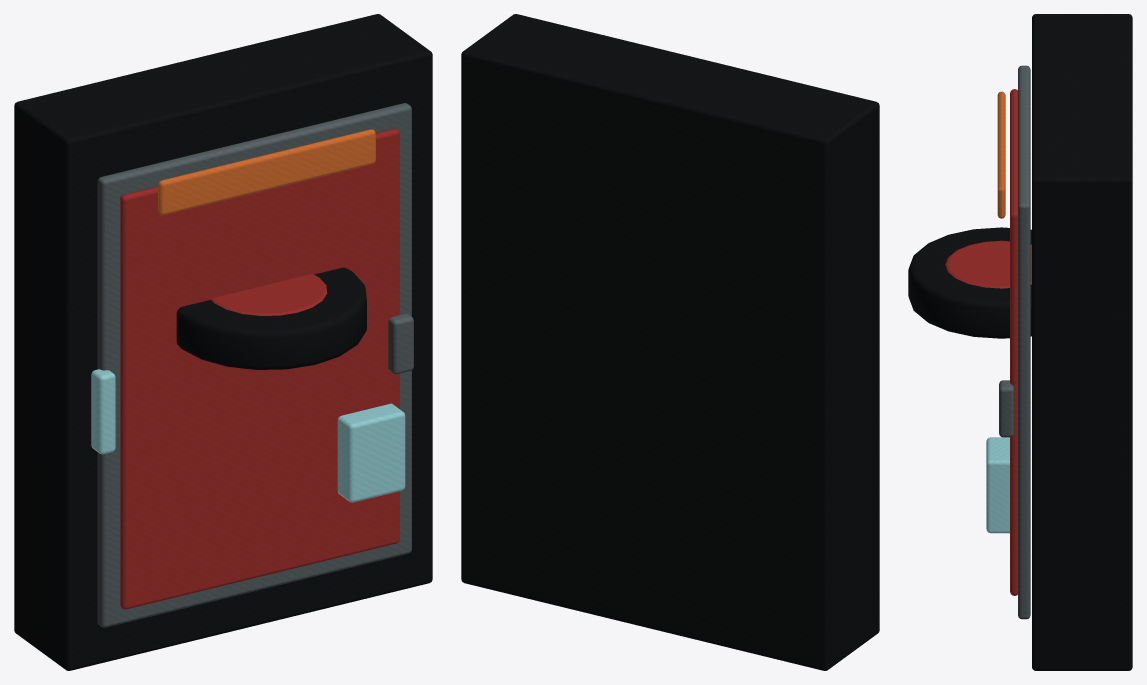
File: WallFireHose.glb
3 renders of one model, left to right at view 1: azimuth 30°, elevation 25°; view 2: azimuth 150°, elevation 25°; view 3: azimuth 270°, elevation 25°, orthographic. The views are drawn at different scales.
Parts seen in each view (by area): view 1: WallFireHose_Mesh; view 2: WallFireHose_Mesh; view 3: WallFireHose_Mesh.
Boxes of the visible parts, x1,y1,x2,y2 form: WallFireHose_Mesh: [14, 14, 432, 670]; WallFireHose_Mesh: [461, 14, 879, 670]; WallFireHose_Mesh: [908, 14, 1132, 670].
Size of the model in its own units: 0.78 by 1.08 by 0.445.
5 materials, 5 textured.
